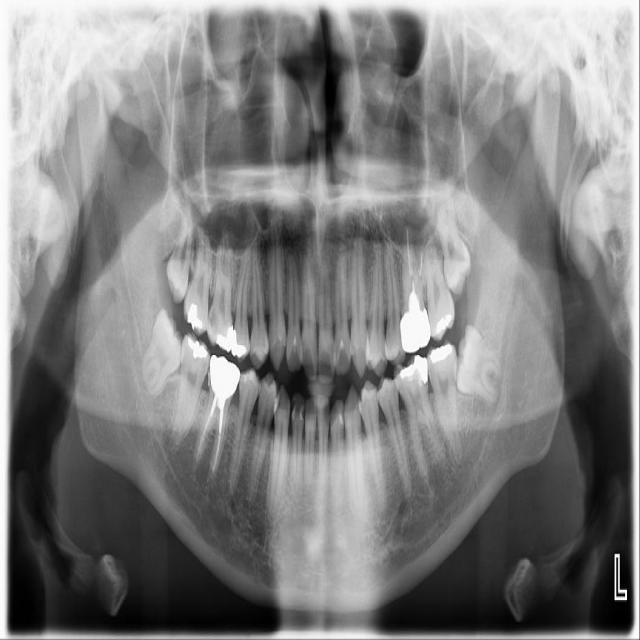3M ESPE Implant: (162, 204, 199, 304)
52: (199, 352, 245, 403), (398, 306, 433, 354), (399, 350, 434, 385), (427, 340, 456, 366), (182, 302, 205, 333), (186, 333, 210, 362), (215, 323, 236, 353), (431, 311, 455, 335), (230, 329, 249, 359)
73: (188, 388, 236, 480), (400, 212, 426, 315), (569, 572, 572, 578)
BioHorizons Implant: (421, 233, 458, 342)
BioLife Implant: (432, 195, 477, 297)
Biomet 3i Implant: (450, 324, 506, 404)
Blue Sky Bio Implant: (424, 337, 464, 466)
Caries: (181, 222, 216, 336)
Implant: (169, 331, 214, 449)
Keystone Dental Implant: (133, 306, 196, 401)
